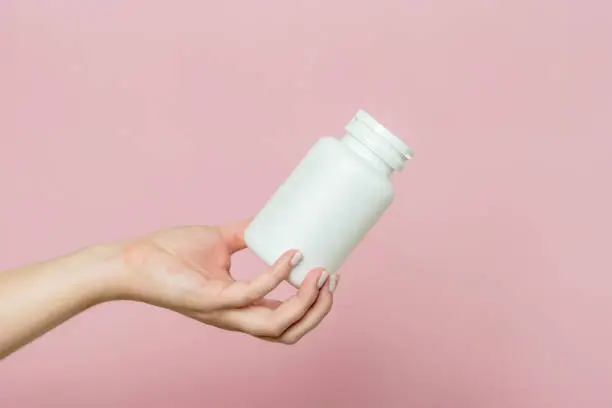Bottle: (230, 103, 420, 293)
